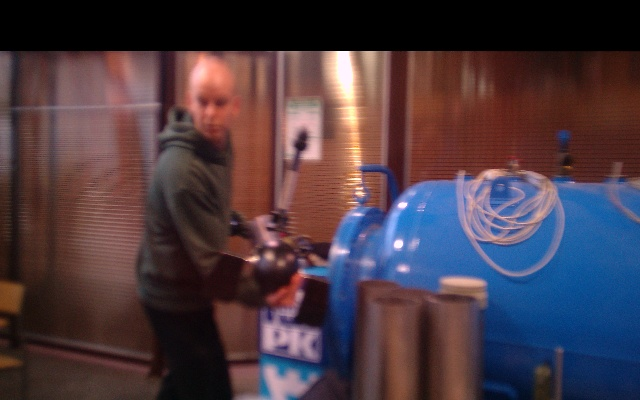black: (276, 166, 300, 212)
